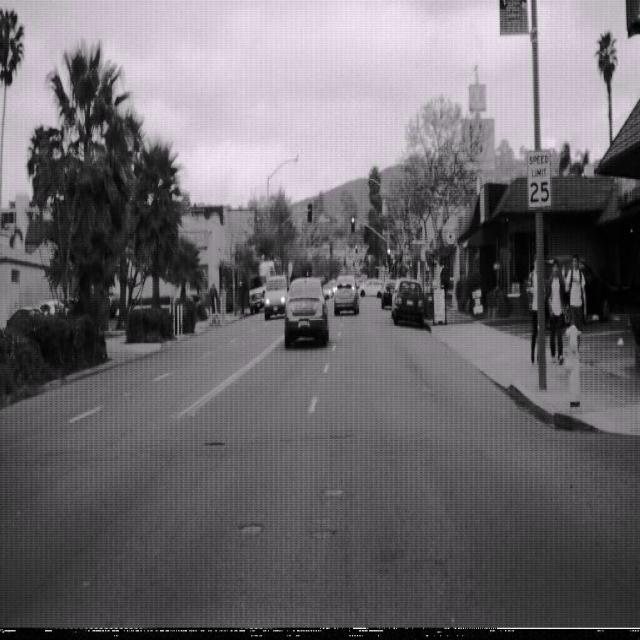speedLimit25: (526, 147, 552, 210)
